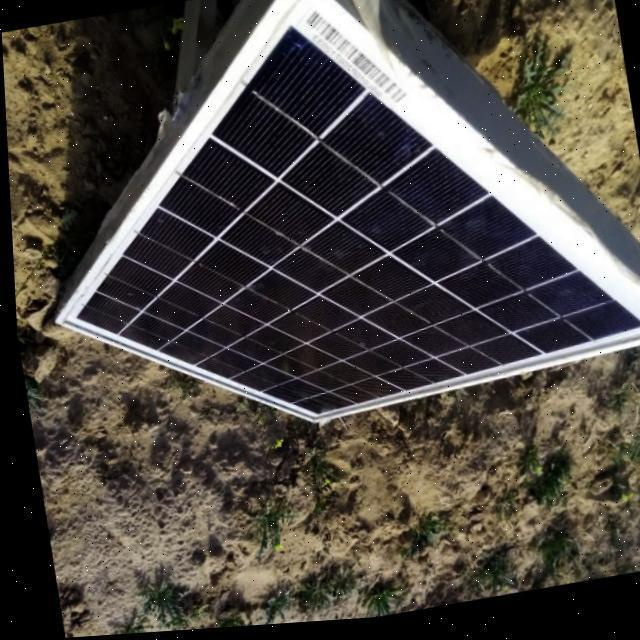Normal Solar Panel: (15, 0, 640, 463)
